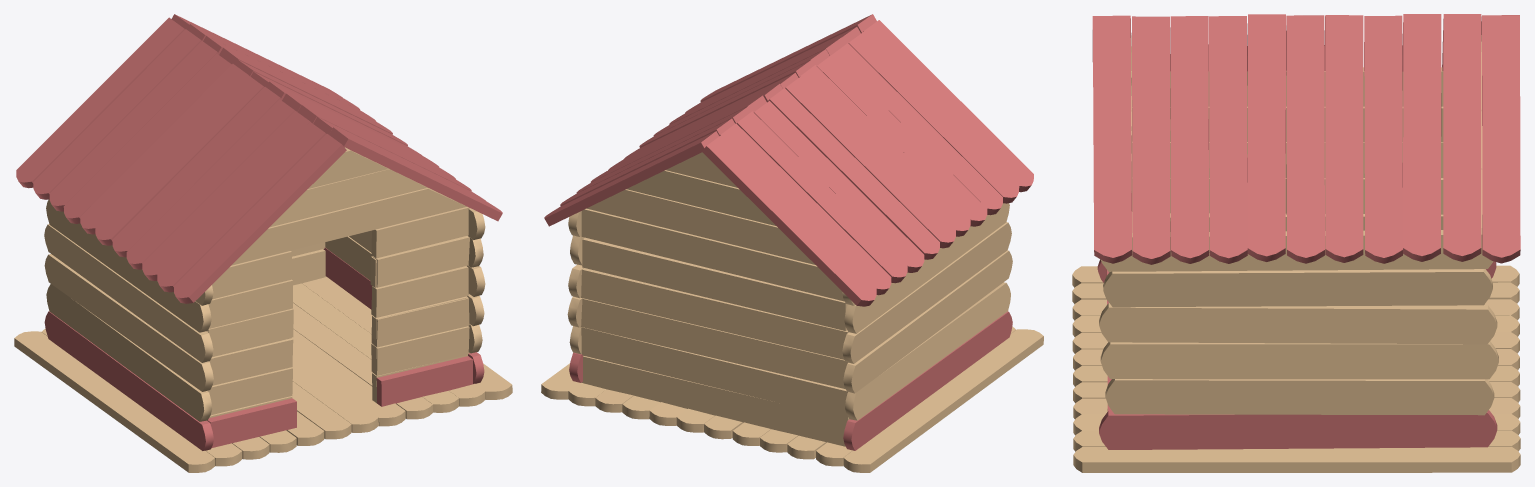
Rendered from miniature_wooden_house.glb.
3 renders of one model, left to right at view 1: azimuth 30°, elevation 25°; view 2: azimuth 150°, elevation 25°; view 3: azimuth 270°, elevation 25°, orthographic. The views are drawn at different scales.
Parts seen in each view (by area): view 1: Roof-1, Plane.056, Floor, Plane, Plane.060, Roof-2, Plane.065, Plane.018, Plane.001, Plane.013; view 2: Roof-1, Plane.013, Plane, Floor, Roof-2, Plane.047, Plane.018; view 3: Roof-2, Plane, Floor, Plane.001, Roof-1.
Boxes of the visible parts, <box> form: Roof-1: <box>16,17,346,303</box>; Plane.056: <box>206,206,469,417</box>; Floor: <box>14,277,512,472</box>; Plane: <box>44,199,485,421</box>; Plane.060: <box>231,147,466,265</box>; Roof-2: <box>171,14,502,221</box>; Plane.065: <box>207,356,474,448</box>; Plane.018: <box>44,311,213,450</box>; Plane.001: <box>323,247,484,383</box>; Plane.013: <box>291,242,326,285</box>; Roof-1: <box>702,20,1033,306</box>; Plane.013: <box>580,208,849,446</box>; Plane: <box>567,203,1012,420</box>; Floor: <box>541,326,1043,472</box>; Roof-2: <box>544,14,876,226</box>; Plane.047: <box>586,152,815,264</box>; Plane.018: <box>843,311,1012,450</box>; Roof-2: <box>1092,14,1520,264</box>; Plane: <box>1099,67,1498,415</box>; Floor: <box>1072,265,1520,472</box>; Plane.001: <box>1099,410,1497,449</box>; Roof-1: <box>1092,15,1519,71</box>.
Size of the model in its own units: 0.1232 by 0.1052 by 0.1181.
